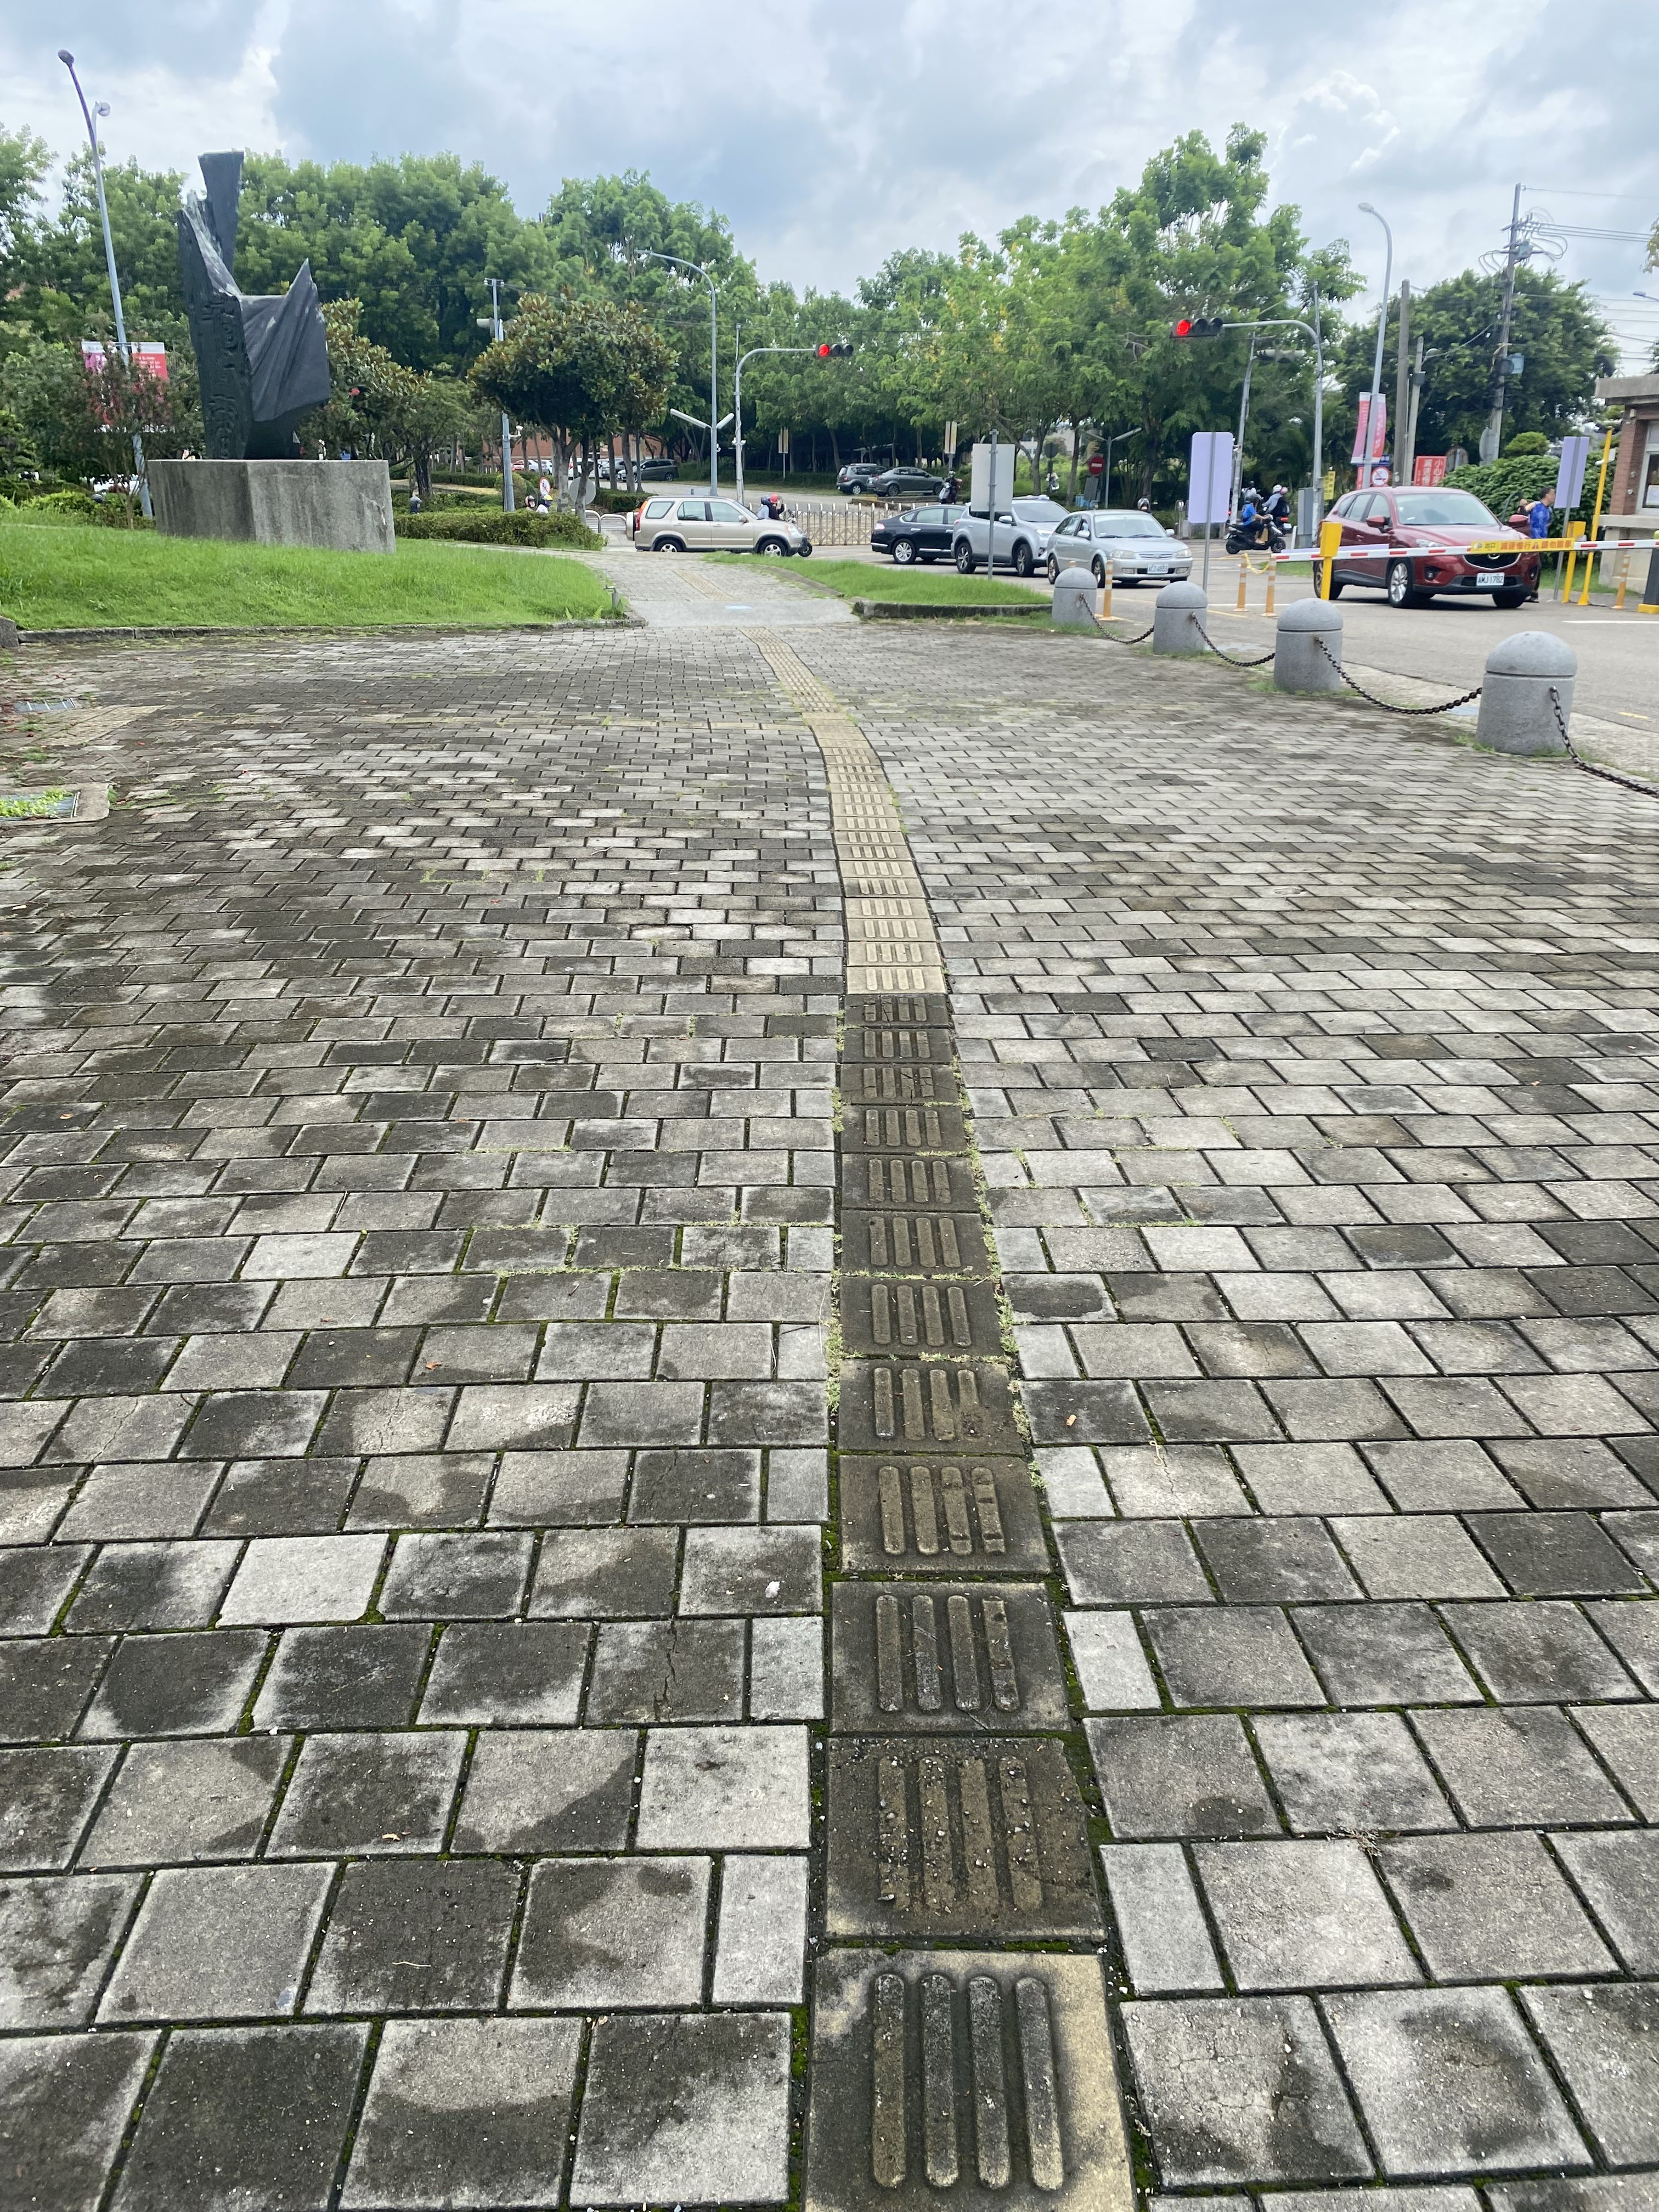sidewalk: (12, 559, 1659, 2212)
